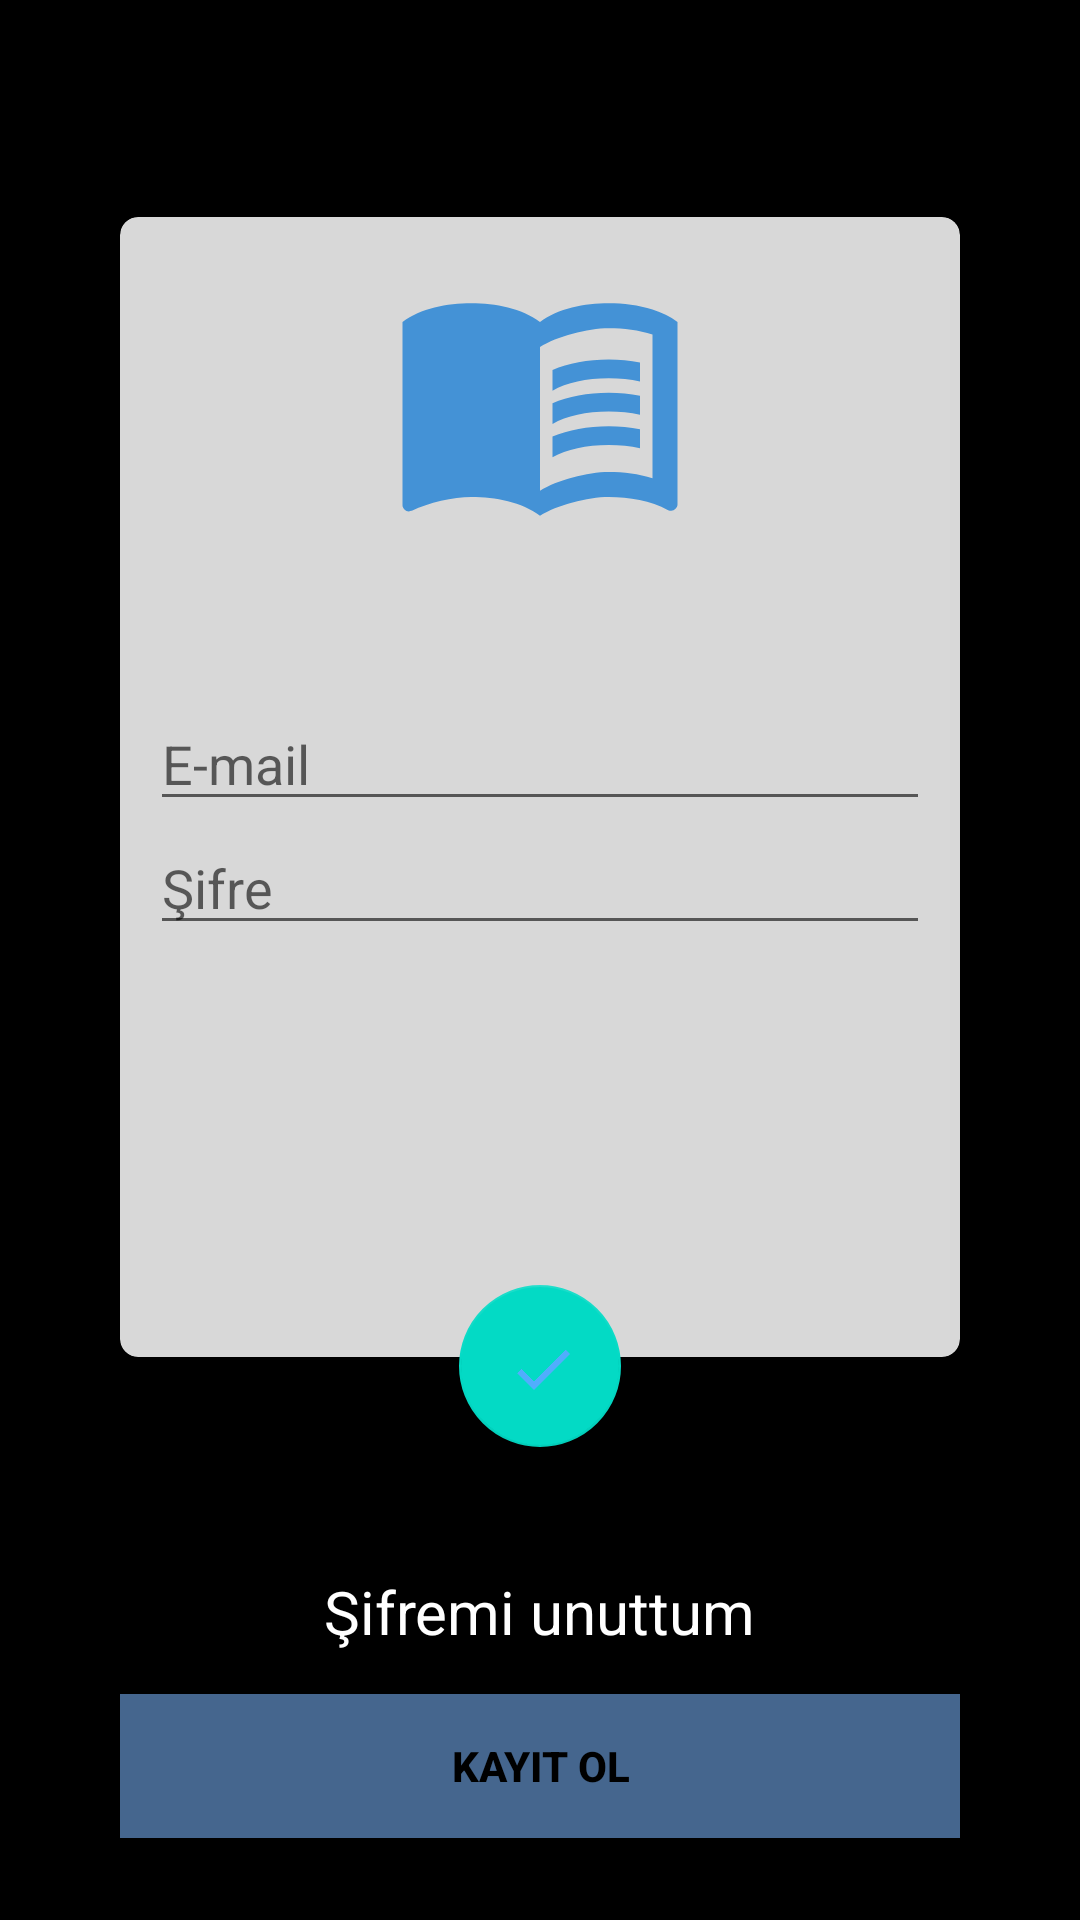

Point at icon controls on the screen. Image size 1080 x 1920, points as [x,y].
book: [540,409]
done: [540,1366]
